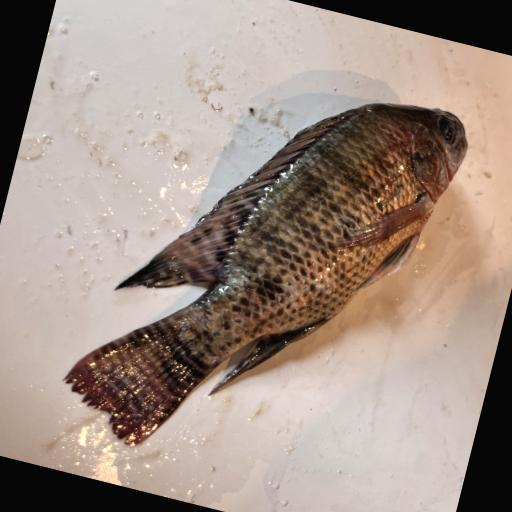Tilapia: (52, 37, 475, 507)
